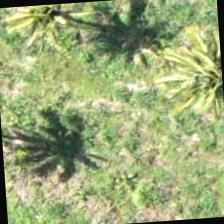Kelapa_Sawit: (144, 24, 223, 120)
